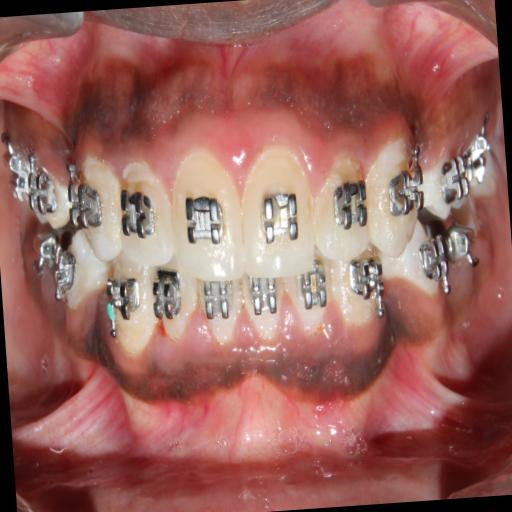correct_brace: (256, 180, 302, 250), (182, 186, 230, 252), (385, 158, 426, 226), (66, 178, 104, 236), (332, 172, 372, 227), (118, 186, 154, 240)
incorrect_brace: (310, 148, 372, 266), (118, 160, 174, 278)
